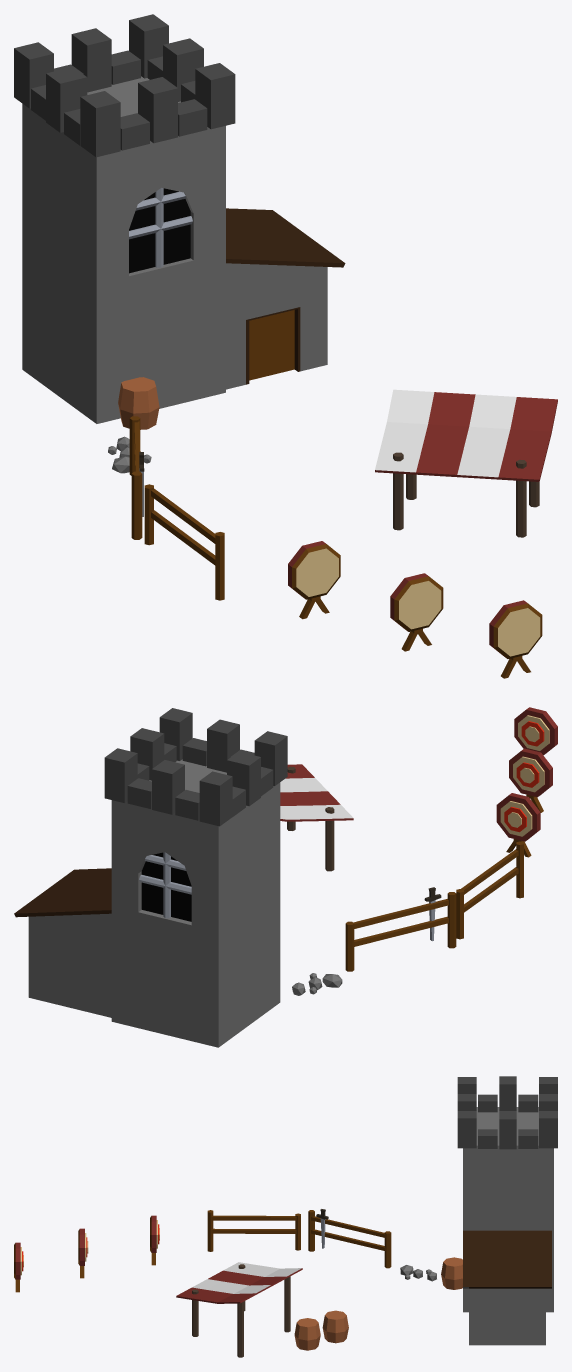
The model's file is TrainingGrounds.fbx.
3 renders of one model, top to bottom at view 1: azimuth 30°, elevation 25°; view 2: azimuth 150°, elevation 25°; view 3: azimuth 270°, elevation 25°, orthographic. The views are drawn at different scales.
Parts seen in each view (by area): view 1: Cube.238; view 2: Cube.238; view 3: Cube.238.
Boxes of the visible parts, box(x1,y1,x2,y2) form: Cube.238: box(14, 14, 557, 678); Cube.238: box(14, 707, 557, 1047); Cube.238: box(14, 1076, 557, 1357).
Size of the model in its own units: 41.51 by 35.82 by 87.24.
